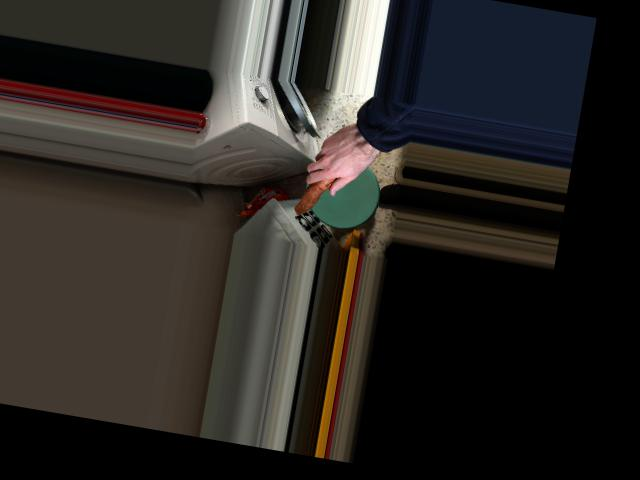sweet_potato: (293, 139, 360, 220)
